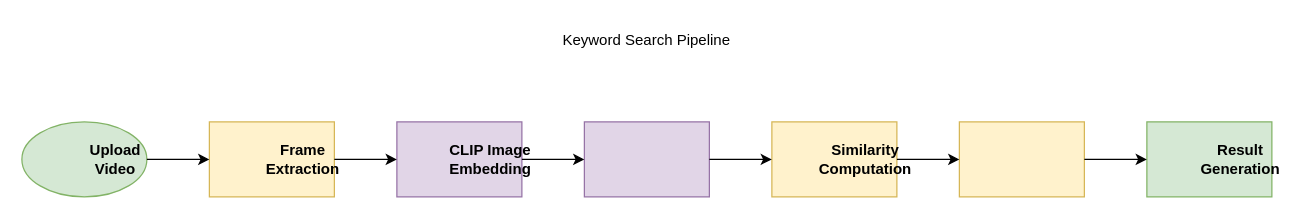
Image size: 1301x219. Some labels were removed from this diagram. The shapes that lost their labels are listed below. From the top down, each one's centre as x and y in pixels, then its label:
At point (646, 159): "Text Query Embedding".
At point (1021, 159): "Ranking & Filtering".
